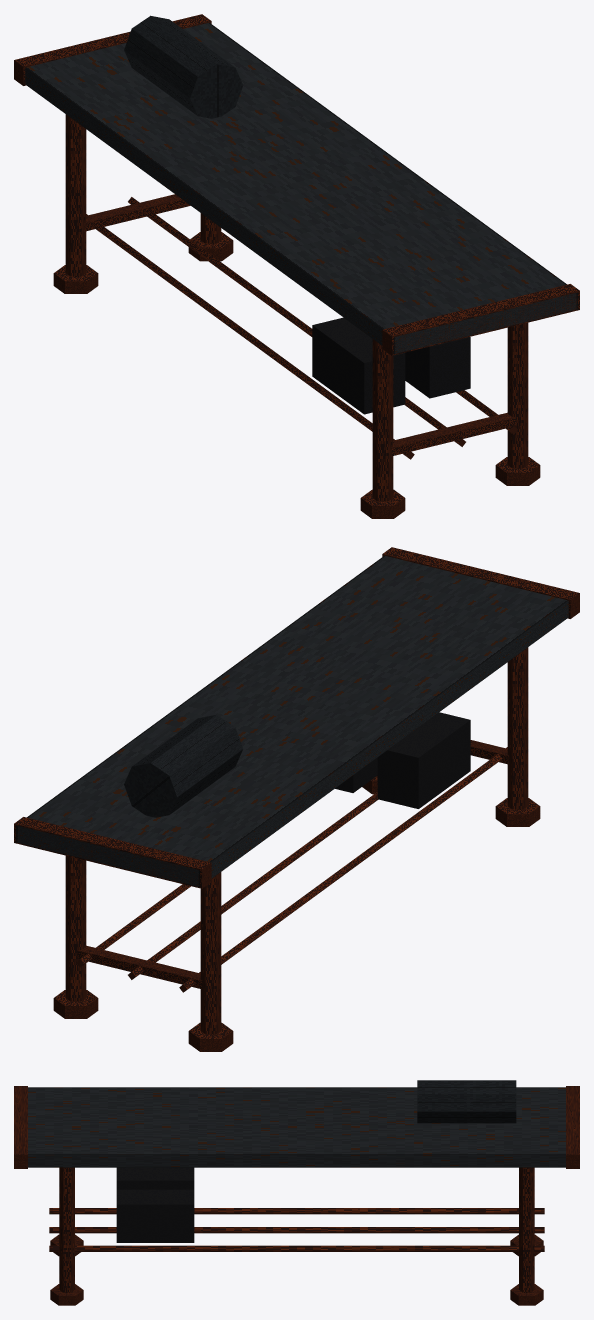
Rendered from locker_bench_derelict_decay.glb.
The picture shows the model from 3 angles, top to bottom: view 1: azimuth 30°, elevation 25°; view 2: azimuth 150°, elevation 25°; view 3: azimuth 270°, elevation 25°; orthographic projection. The views are drawn at different scales.
Visible parts, largest first — view 1: locker_bench_derelict_decay; view 2: locker_bench_derelict_decay; view 3: locker_bench_derelict_decay.
Part boxes in pixels (bbox=[...]): locker_bench_derelict_decay: bbox=[14, 14, 579, 518]; locker_bench_derelict_decay: bbox=[14, 547, 579, 1051]; locker_bench_derelict_decay: bbox=[14, 1080, 579, 1305].
Bounding box in the file's own units: 0.46 × 0.605 × 1.6.
5 materials, 5 textured.
